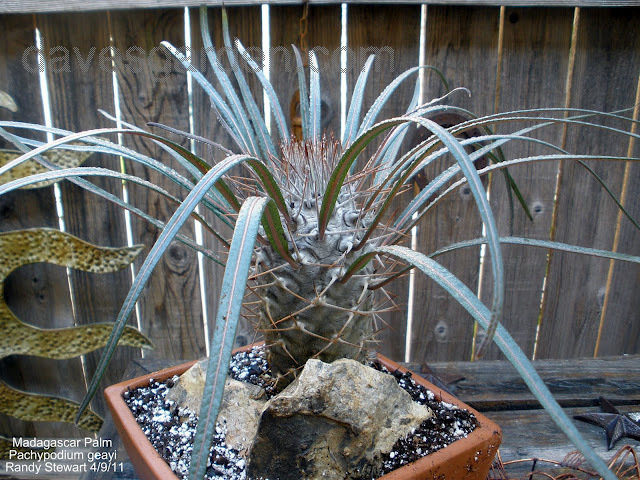Pachypodium geayi: (170, 72, 475, 372)
